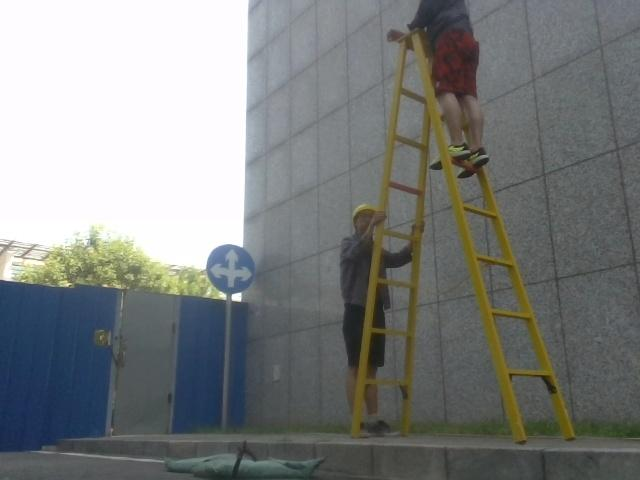安全帽、安全绳均未佩戴的工作人员: (407, 0, 492, 180)
